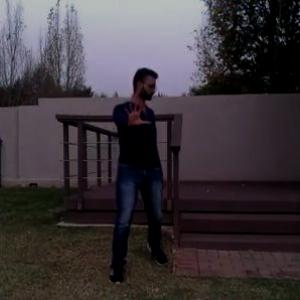follow_hand: (121, 98, 153, 130)
